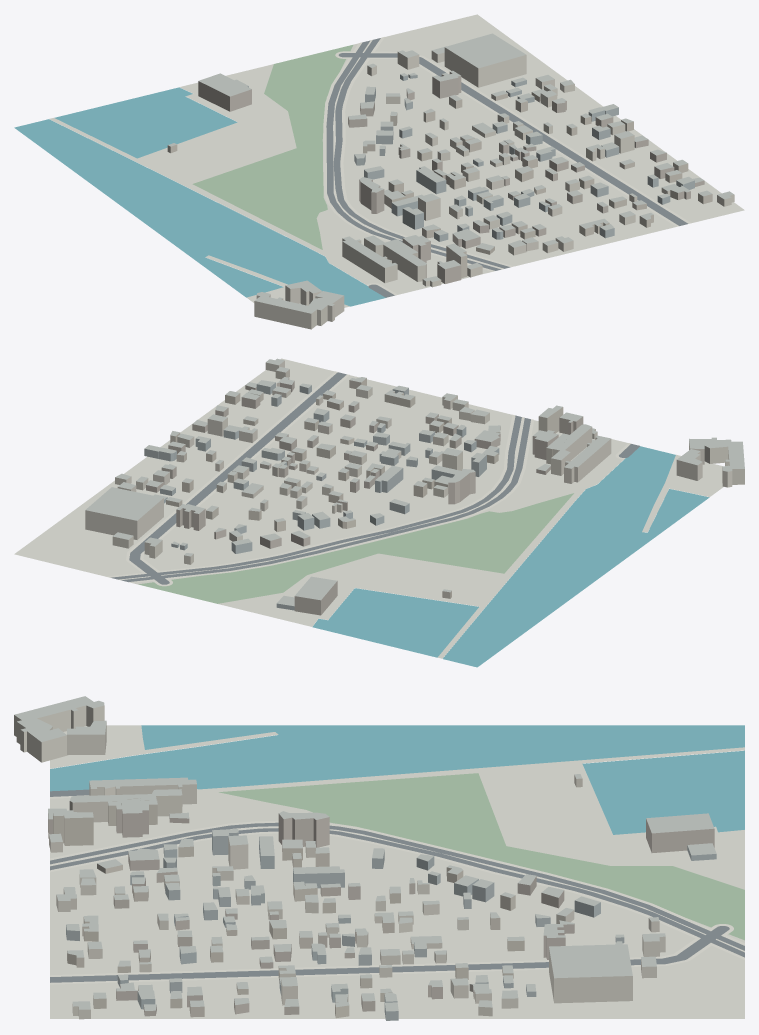
3 views of the same model, one above another, from view 1: azimuth 30°, elevation 25°; view 2: azimuth 150°, elevation 25°; view 3: azimuth 270°, elevation 25° (orthographic). The views are drawn at different scales.
Parts seen in each view (by area): view 1: city; view 2: city; view 3: city.
Boxes of the visible parts, x1,y1,x2,y2 form: city: [14, 14, 744, 329]; city: [14, 358, 744, 667]; city: [14, 696, 744, 1020].
Bounding box in the file's own units: 518 × 22.38 × 526.
